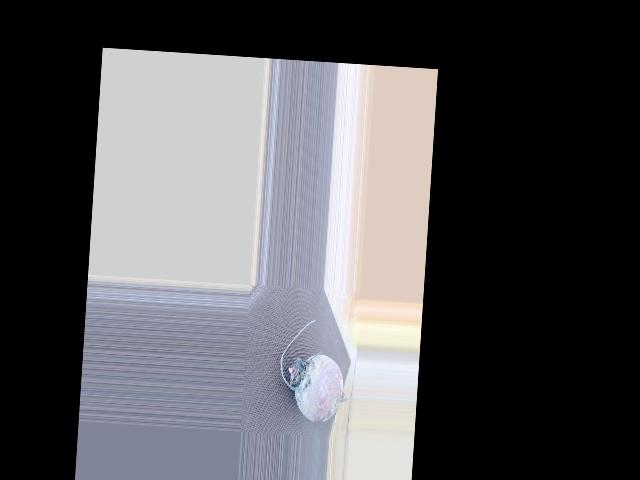beet: (276, 317, 358, 425)
